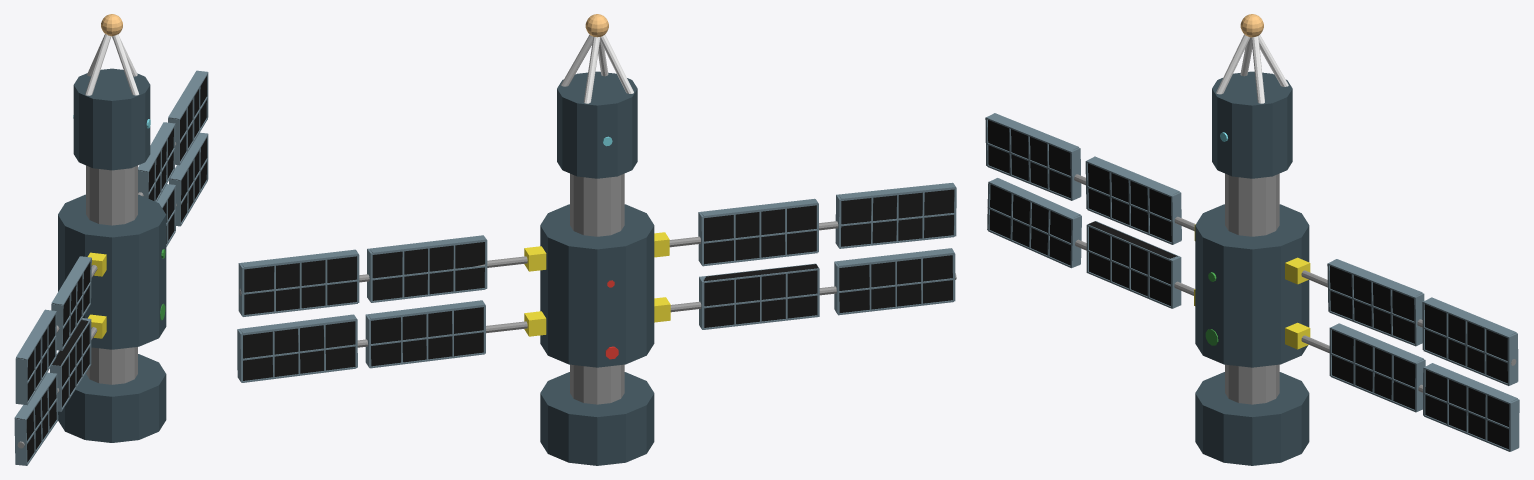
File: Satelit.fbx
3 views of the same model, side by side, from view 1: azimuth 30°, elevation 25°; view 2: azimuth 150°, elevation 25°; view 3: azimuth 270°, elevation 25° (orthographic). The views are drawn at different scales.
Visible parts, largest first — view 1: mesh_959865529, mesh_1982895768, mesh_318780042, mesh_1528049178, mesh_70508355, mesh_1615908355, mesh_322205812, mesh_556033275, mesh_651729783, mesh_1782571873, mesh_487743640, mesh_1997373686 (+20 smaller); view 2: mesh_959865529, mesh_318780042, mesh_1982895768, mesh_1615908355, mesh_1997373686, mesh_556033275, mesh_1782571873, mesh_651729783, mesh_1437255572, mesh_487743640, mesh_322205812, mesh_1528049178 (+10 smaller); view 3: mesh_959865529, mesh_318780042, mesh_1982895768, mesh_1615908355, mesh_1437255572, mesh_651729783, mesh_1997373686, mesh_487743640, mesh_556033275, mesh_322205812, mesh_1782571873, mesh_1528049178 (+12 smaller).
Part boxes in pixels (left/top/right/bottom): mesh_959865529: left=58, top=194, right=166, bottom=349; mesh_1982895768: left=73, top=68, right=150, bottom=170; mesh_318780042: left=58, top=354, right=166, bottom=442; mesh_1528049178: left=86, top=165, right=137, bottom=225; mesh_70508355: left=86, top=347, right=137, bottom=384; mesh_1615908355: left=52, top=319, right=89, bottom=407; mesh_322205812: left=17, top=377, right=56, bottom=462; mesh_556033275: left=17, top=315, right=55, bottom=401; mesh_651729783: left=170, top=138, right=206, bottom=222; mesh_1782571873: left=53, top=262, right=90, bottom=346; mesh_487743640: left=169, top=76, right=206, bottom=161; mesh_1997373686: left=138, top=128, right=173, bottom=200; mesh_959865529: left=540, top=204, right=654, bottom=367; mesh_318780042: left=540, top=372, right=654, bottom=465; mesh_1982895768: left=557, top=71, right=637, bottom=178; mesh_1615908355: left=703, top=264, right=818, bottom=327; mesh_1997373686: left=372, top=242, right=484, bottom=300; mesh_556033275: left=841, top=189, right=954, bottom=246; mesh_1782571873: left=704, top=205, right=816, bottom=264; mesh_651729783: left=243, top=321, right=355, bottom=380; mesh_1437255572: left=371, top=307, right=483, bottom=366; mesh_487743640: left=244, top=256, right=356, bottom=314; mesh_322205812: left=837, top=255, right=952, bottom=312; mesh_1528049178: left=570, top=173, right=624, bottom=236; mesh_959865529: left=1195, top=204, right=1309, bottom=367; mesh_318780042: left=1195, top=372, right=1309, bottom=465; mesh_1982895768: left=1212, top=71, right=1292, bottom=178; mesh_1615908355: left=1088, top=221, right=1177, bottom=305; mesh_1437255572: left=1332, top=330, right=1415, bottom=409; mesh_651729783: left=1425, top=370, right=1509, bottom=449; mesh_1997373686: left=1330, top=266, right=1414, bottom=343; mesh_487743640: left=1424, top=304, right=1507, bottom=383; mesh_556033275: left=988, top=120, right=1070, bottom=198; mesh_322205812: left=989, top=184, right=1071, bottom=265; mesh_1782571873: left=1088, top=163, right=1171, bottom=242; mesh_1528049178: left=1225, top=173, right=1279, bottom=236.
Bounding box in the file's own units: 653 × 588 × 655.
